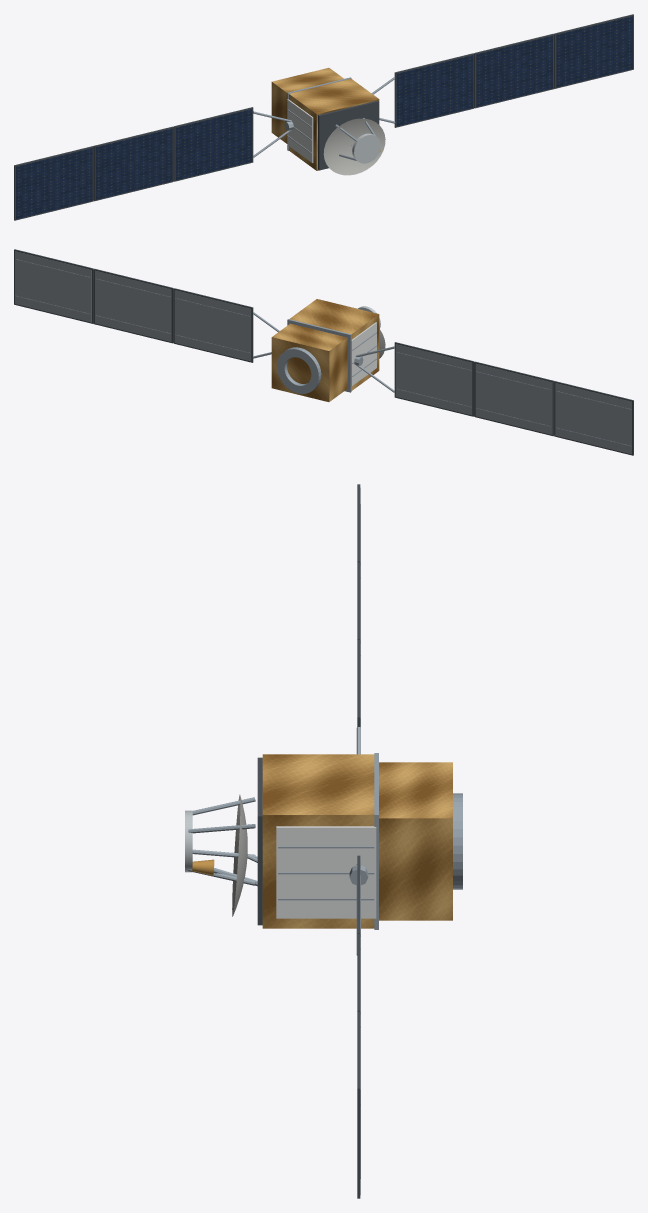
Rendered from ref-eurostar-1000-20918.glb.
The picture shows the model from 3 angles, top to bottom: view 1: azimuth 30°, elevation 25°; view 2: azimuth 150°, elevation 25°; view 3: azimuth 270°, elevation 25°; orthographic projection. The views are drawn at different scales.
Visible parts, largest first — view 1: Solar cell panel (×6), Solar panel frame (×6), Payload module, Deck-mounted reflector, Service module, Earth-facing deck, Radiator face, Antenna tower platform; view 2: Rear array substrate (×6), Service module, Solar panel frame (×6), Payload module, Launch adapter ring, Radiator face, Module interface; view 3: Service module, Payload module, Radiator face, Deck-mounted reflector, Earth-facing deck, Launch adapter ring.
Part boxes in pixels (box(x1,y1,x2,y2)): Solar cell panel (×6): box(16, 16, 632, 219); Solar panel frame (×6): box(14, 14, 633, 220); Payload module: box(289, 78, 379, 170); Deck-mounted reflector: box(323, 118, 385, 175); Service module: box(271, 68, 343, 143); Earth-facing deck: box(318, 100, 379, 170); Radiator face: box(287, 99, 313, 162); Antenna tower platform: box(352, 133, 380, 163); Rear array substrate (×6): box(15, 251, 631, 454); Service module: box(271, 323, 347, 401); Solar panel frame (×6): box(14, 249, 633, 455); Payload module: box(290, 299, 379, 390); Launch adapter ring: box(277, 347, 321, 393); Radiator face: box(351, 322, 376, 385); Module interface: box(287, 319, 351, 392); Service module: box(379, 762, 452, 920); Payload module: box(262, 754, 374, 928); Radiator face: box(276, 826, 376, 918); Deck-mounted reflector: box(232, 794, 247, 916); Earth-facing deck: box(257, 757, 262, 925); Launch adapter ring: box(453, 793, 462, 889).
Size of the model in its own units: 14.88 by 1.44 by 2.89.
Materials: 9 (2 with a texture image).
